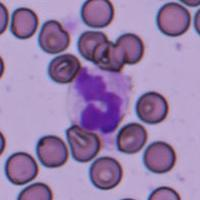N: (68, 66, 132, 138)
